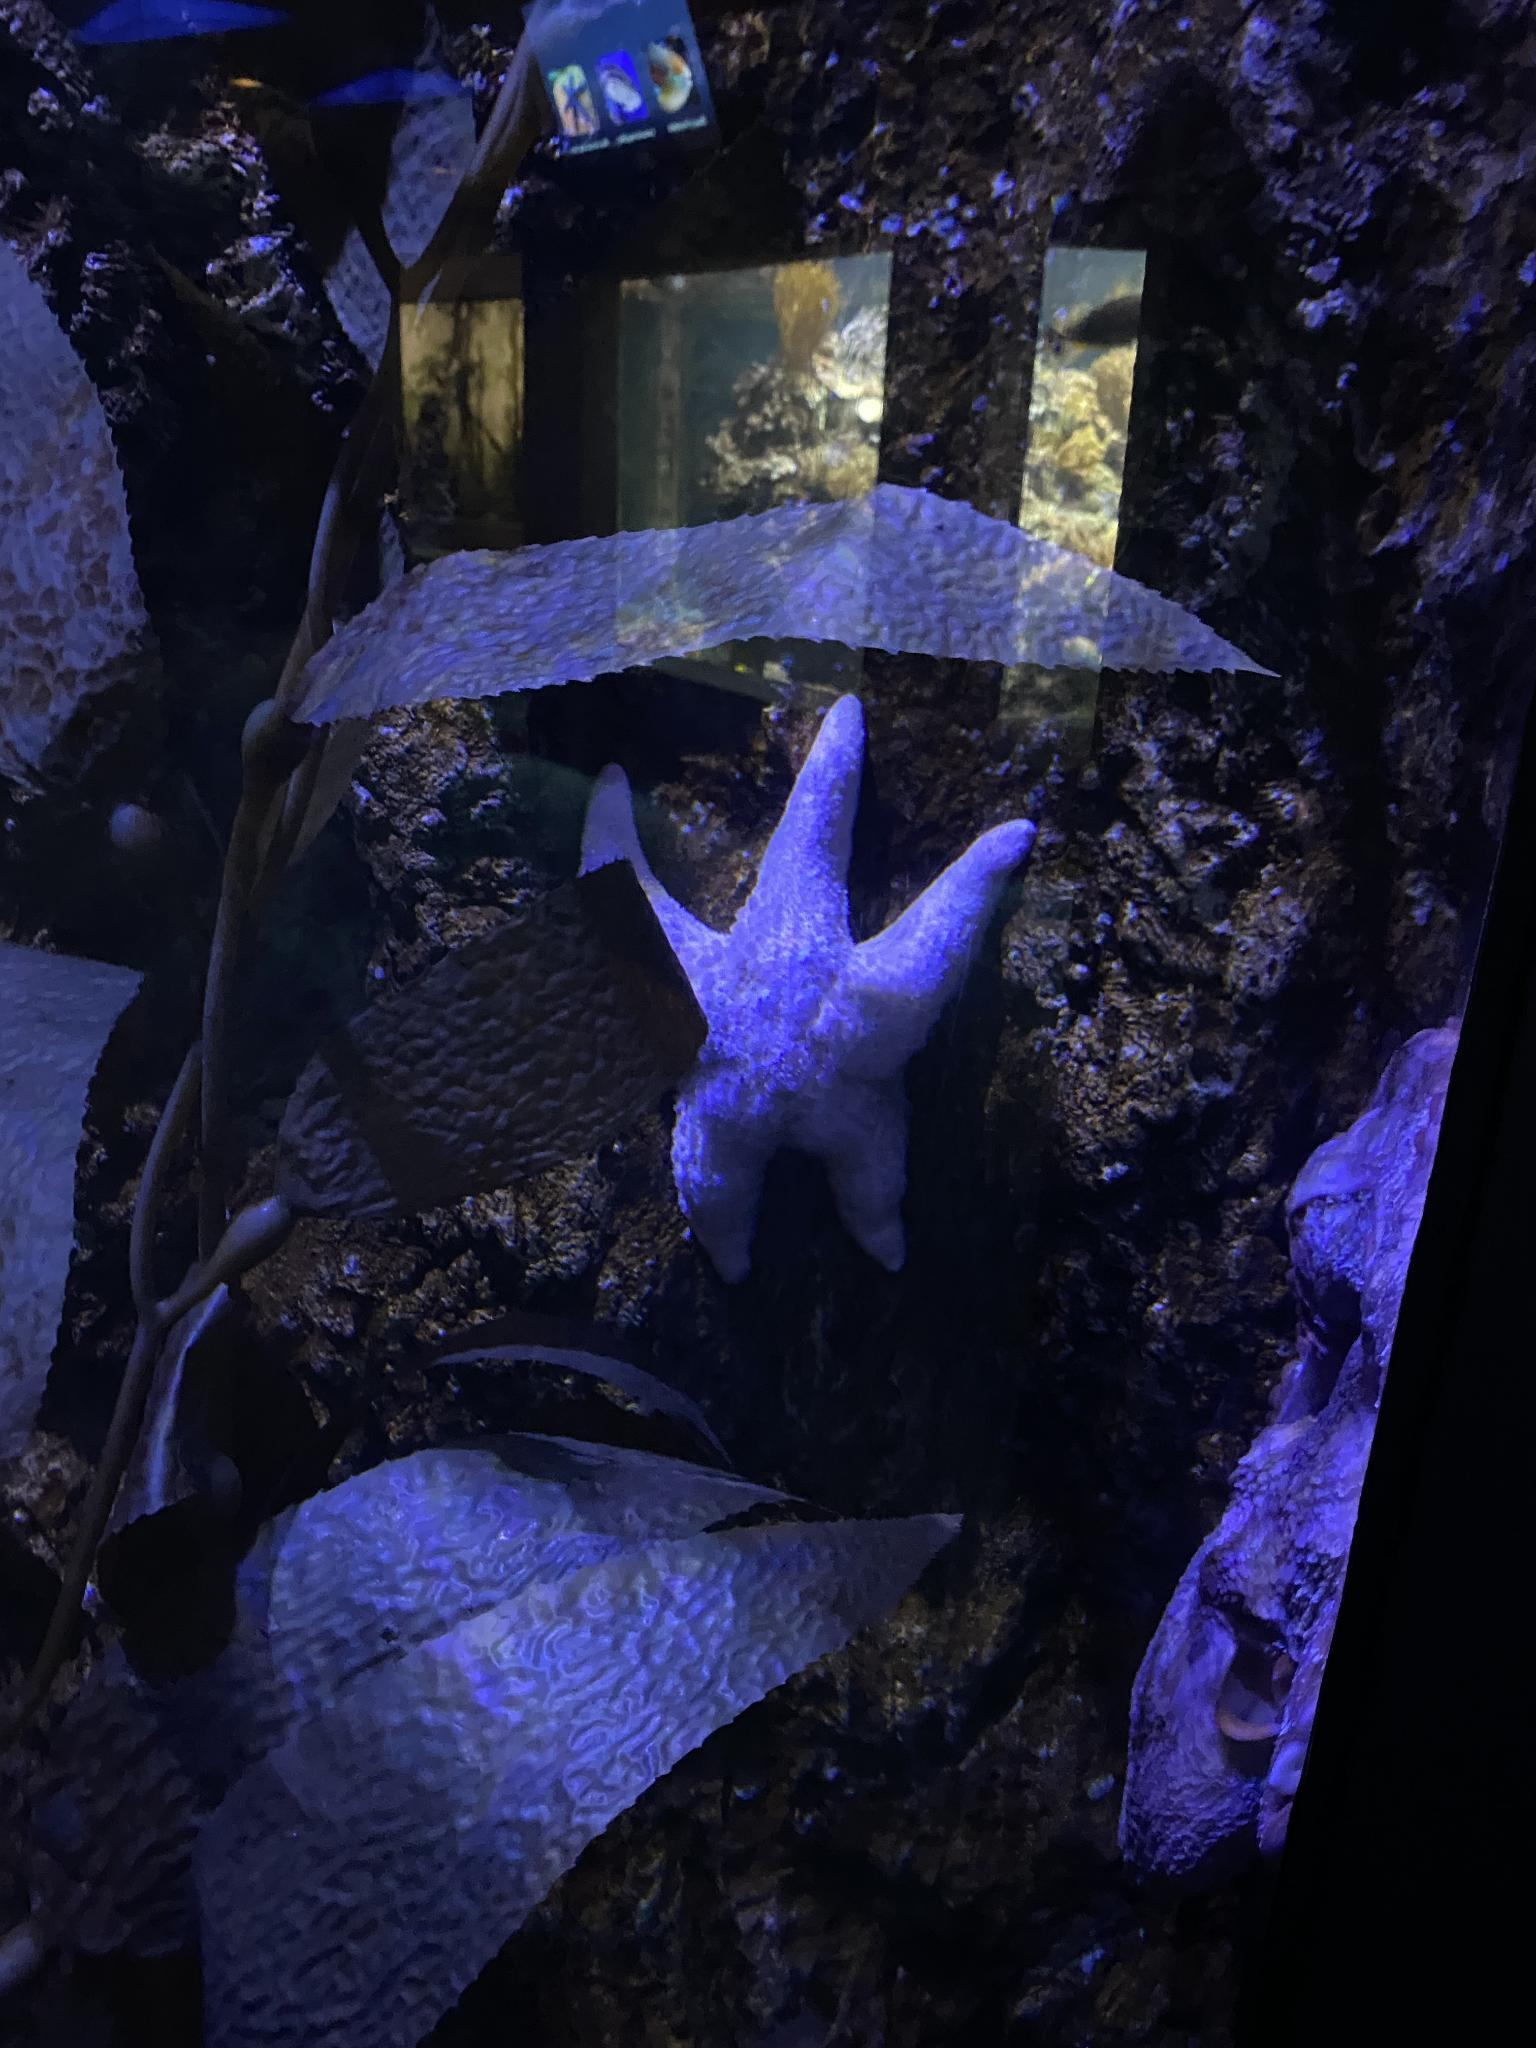starfish: (582, 684, 1037, 1280)
